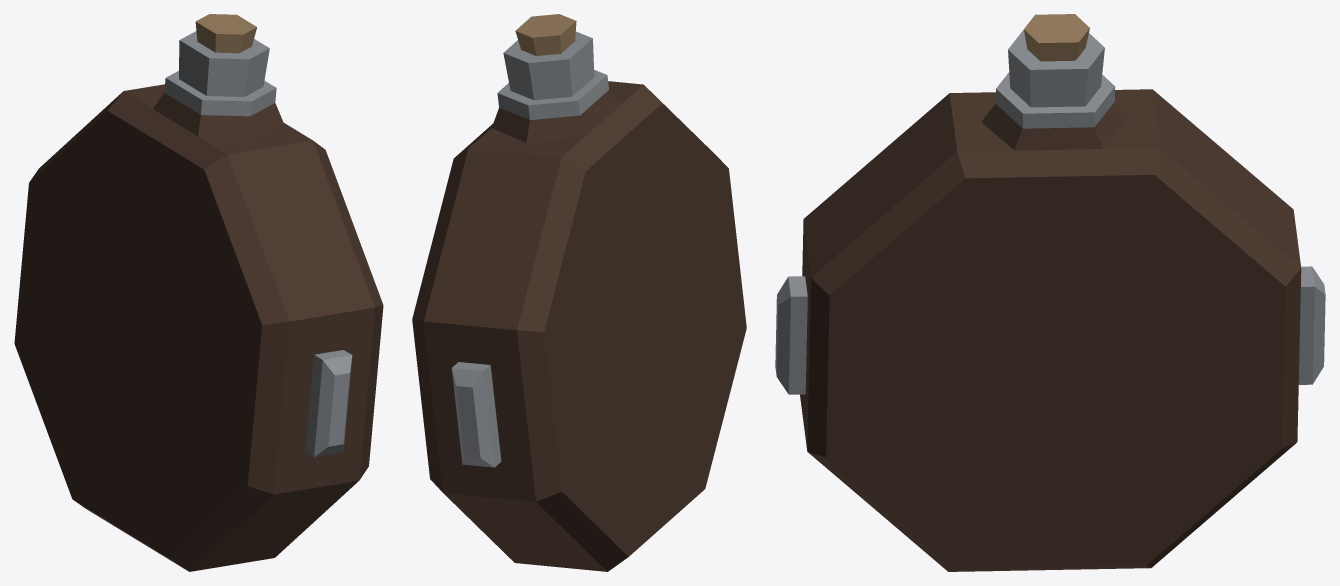
The model's file is Chr_HipsAttachment_05_Static.fbx.
3 views of the same model, side by side, from view 1: azimuth 30°, elevation 25°; view 2: azimuth 150°, elevation 25°; view 3: azimuth 270°, elevation 25° (orthographic). The views are drawn at different scales.
Parts seen in each view (by area): view 1: Chr_HipsAttachment_05_Static; view 2: Chr_HipsAttachment_05_Static; view 3: Chr_HipsAttachment_05_Static.
Boxes of the visible parts, x1,y1,x2,y2 form: Chr_HipsAttachment_05_Static: (14,14,383,571); Chr_HipsAttachment_05_Static: (412,14,746,571); Chr_HipsAttachment_05_Static: (775,14,1325,571).
Bounding box in the file's own units: 0.0897 × 0.2449 × 0.2224.
